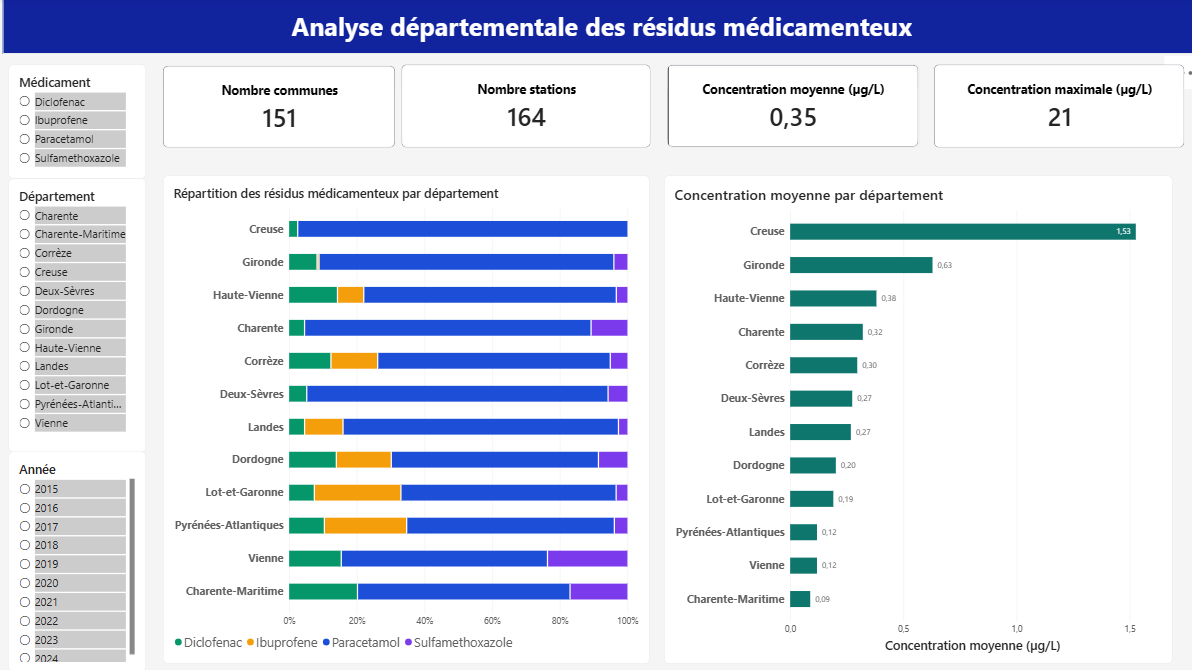

This screenshot's page, from the dashboard's own definition file:
{"tool":"powerbi","page":{"name":"Analyse départementale","canvas":[1920,1080],"ordinal":1},"visuals":[{"type":"shape","box":[11.9,0,1906.3,90.7],"z":0},{"type":"listSlicer","title":"Département","fields":{"Values":["donnees_medicaments_nouvelle_aquitaine_clean.departement"]},"box":[21.4,288.3,218.9,435.1],"z":1000},{"type":"listSlicer","title":"Médicament","fields":{"Values":["donnees_medicaments_nouvelle_aquitaine_clean.medicament"]},"box":[21.4,106.8,218.9,181.5],"z":2000},{"type":"listSlicer","title":"Année","fields":{"Values":["donnees_medicaments_nouvelle_aquitaine_clean.annee"]},"box":[21.4,723.3,218.9,352.3],"z":3000},{"type":"cardVisual","fields":{"Data":["Mesures.Nombre communes"]},"box":[266.8,107.8,369.3,132.1],"z":4000},{"type":"cardVisual","fields":{"Data":["Mesures.Concentration moyenne"]},"box":[1070.1,107.8,401.6,132.1],"z":5000},{"type":"cardVisual","fields":{"Data":["Mesures.Concentration maximale"]},"box":[1493.2,107.8,398.9,132.1],"z":6000},{"type":"cardVisual","fields":{"Data":["Mesures.Nombre stations"]},"box":[646.9,107.8,396.2,132.1],"z":7000},{"type":"hundredPercentStackedBarChart","title":"Répartition des résidus médicamenteux par département","fields":{"Category":["donnees_medicaments_nouvelle_aquitaine_clean.departement"],"Series":["donnees_medicaments_nouvelle_aquitaine_clean.medicament"],"Y":["Mesures.Concentration moyenne (µg/L)"]},"box":[266.9,282.9,774.1,776.7],"z":8000},{"type":"clusteredBarChart","title":"Concentration moyenne par département","fields":{"Y":["Mesures.Concentration moyenne (µg/L)"],"Category":["donnees_medicaments_nouvelle_aquitaine_clean.departement"]},"box":[1065,282.9,808.8,776.7],"z":9000}]}

Visuals, with their boxes in screenshot pixels (x1, y1, x2, y2), scaled from the page's 1920x1080 canvas onto the 1192x670 screenshot:
shape: select_region(7, 0, 1191, 56)
"Département" listSlicer: select_region(13, 179, 149, 449)
"Médicament" listSlicer: select_region(13, 66, 149, 179)
"Année" listSlicer: select_region(13, 449, 149, 667)
cardVisual - Mesures.Nombre communes: select_region(166, 67, 395, 149)
cardVisual - Mesures.Concentration moyenne: select_region(664, 67, 914, 149)
cardVisual - Mesures.Concentration maximale: select_region(927, 67, 1175, 149)
cardVisual - Mesures.Nombre stations: select_region(402, 67, 648, 149)
"Répartition des résidus médicamenteux par département" hundredPercentStackedBarChart: select_region(166, 176, 646, 657)
"Concentration moyenne par département" clusteredBarChart: select_region(661, 176, 1163, 657)
